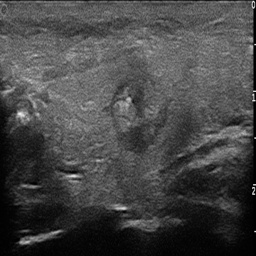mass: (111, 77, 167, 151)
